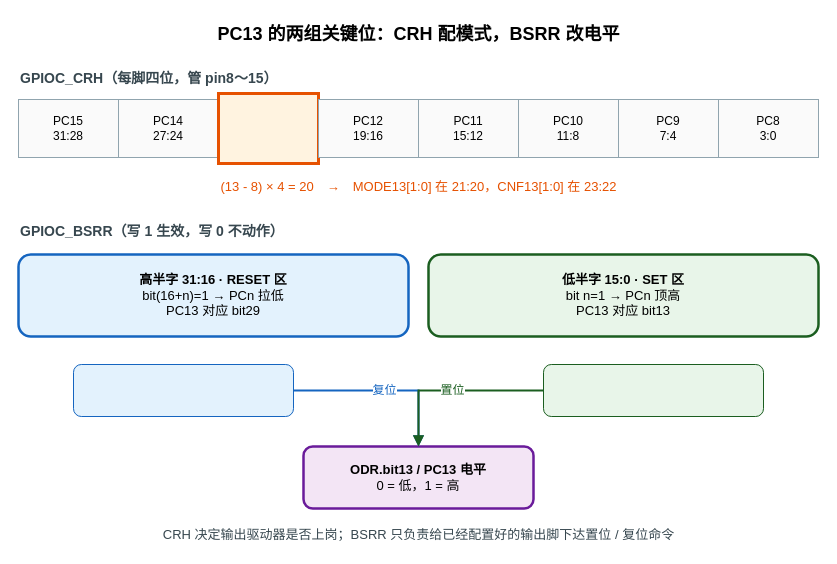
This 837x564 diagram has some shape labels left out. Here are the shapes that lost their labels. From the top down, the centre of each, then its label:
At (268,128): "PC13 bits 23:20 0010".
At (183,390): "1u << (13 + 16) 0x20000000".
At (653,390): "1u << 13 0x00002000".
